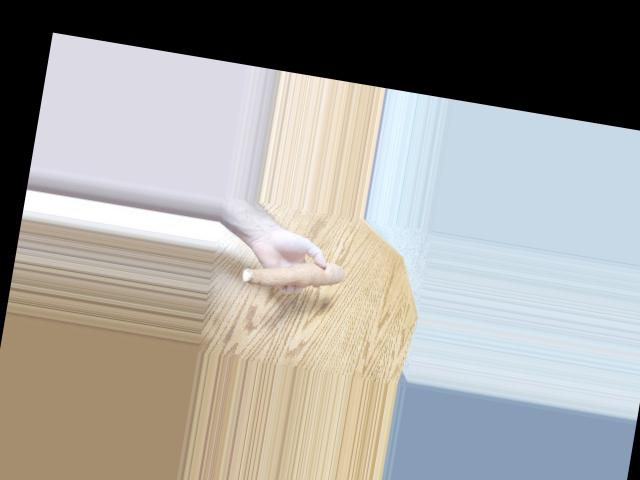sweet_potato: (244, 253, 351, 300)
